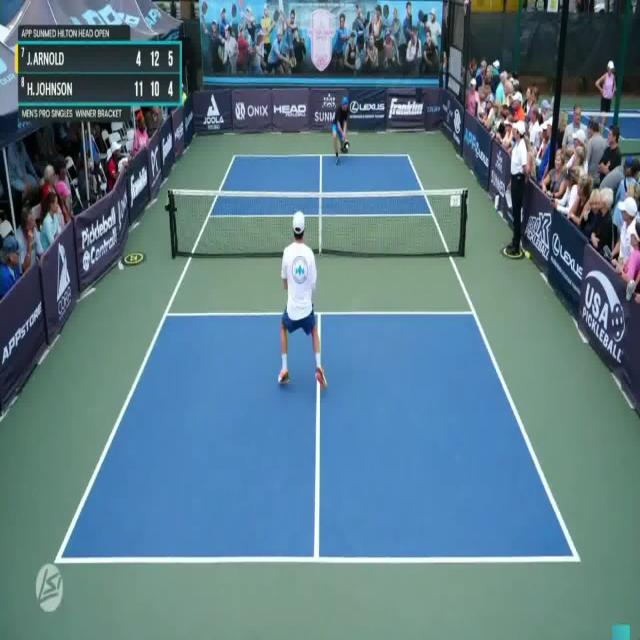ball: (345, 144, 349, 149)
